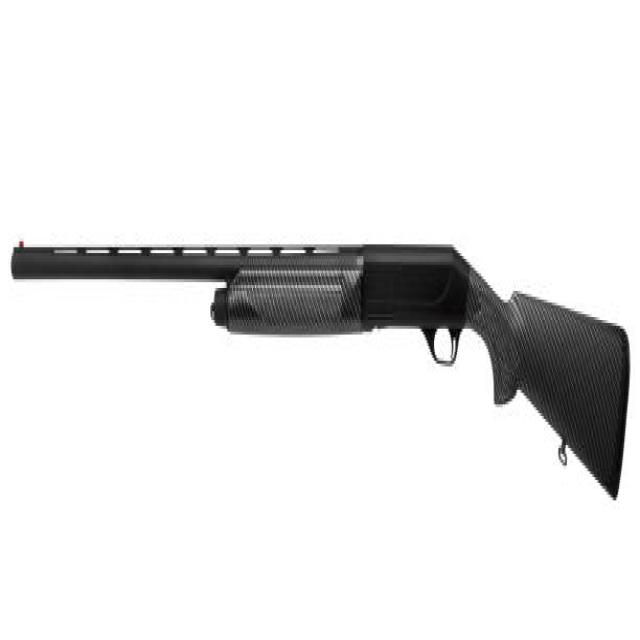rifle: (7, 219, 634, 518)
